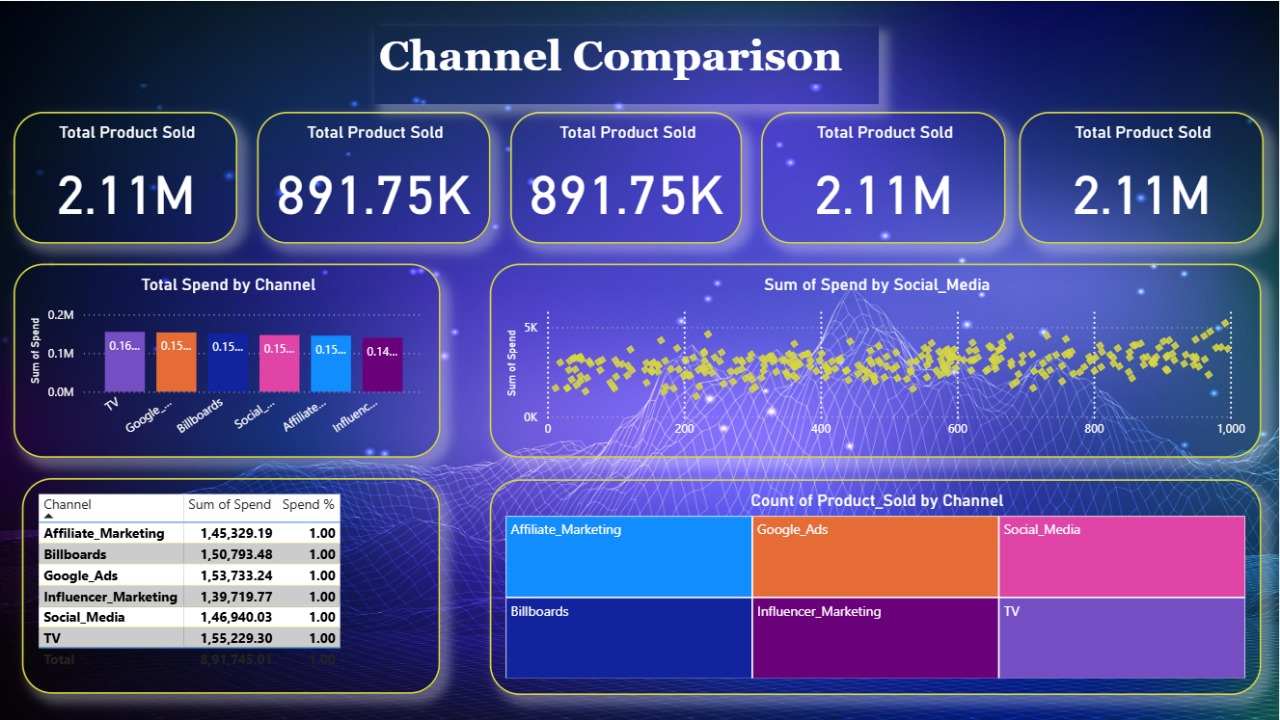

This screenshot's page, from the dashboard's own definition file:
{"tool":"powerbi","page":{"name":"Page 2","canvas":[1280,720],"ordinal":0},"visuals":[{"type":"card","title":"Total Product Sold","fields":{"Values":["measure.Total Products Sold"]},"box":[14.9,111.5,224.1,132.2],"z":0},{"type":"card","title":"Total Product Sold","fields":{"Values":["measure.Total Spend"]},"box":[258.6,111.5,233.3,132.2],"z":1000},{"type":"card","title":"Total Product Sold","fields":{"Values":["measure.Total Spend"]},"box":[511.5,111.5,232.2,132.2],"z":2000},{"type":"card","title":"Total Product Sold","fields":{"Values":["measure.Total Products Sold"]},"box":[762.1,111.5,244.8,132.2],"z":3000},{"type":"card","title":"Total Product Sold","fields":{"Values":["measure.Total Products Sold"]},"box":[1020.7,111.5,244.8,132.2],"z":4000},{"type":"clusteredColumnChart","title":"Total Spend by Channel","fields":{"Category":["Ads Spend.Channel"],"Y":["Sum(Ads Spend.Spend)"]},"box":[14.5,263,427.1,194.2],"z":5000},{"type":"scatterChart","fields":{"X":["Ads Base.Social_Media"],"Y":["Sum(Ads Spend.Spend)"]},"box":[491,263,772.1,194.2],"z":6000},{"type":"textbox","box":[374.7,25.3,504.6,78.2],"z":7000},{"type":"tableEx","fields":{"Values":["Ads Spend.Channel","Sum(Ads Spend.Spend)","measure.Spend %"]},"box":[22.9,477.8,418.6,216],"z":8000},{"type":"treemap","fields":{"Group":["Ads Spend.Channel"],"Values":["CountNonNull(Ads Base.Product_Sold)"]},"box":[491,479,772.1,216],"z":8001}]}

Visuals, with their boxes in screenshot pixels (x1, y1, x2, y2), scaled from the page's 1280x720 canvas onto the 1280x720 screenshot:
"Total Product Sold" card: detection(15, 112, 239, 244)
"Total Product Sold" card: detection(259, 112, 492, 244)
"Total Product Sold" card: detection(512, 112, 744, 244)
"Total Product Sold" card: detection(762, 112, 1007, 244)
"Total Product Sold" card: detection(1021, 112, 1266, 244)
"Total Spend by Channel" clusteredColumnChart: detection(14, 263, 442, 457)
scatterChart - Ads Base.Social_Media x Sum(Ads Spend.Spend): detection(491, 263, 1263, 457)
textbox: detection(375, 25, 879, 104)
tableEx - Ads Spend.Channel x Sum(Ads Spend.Spend): detection(23, 478, 442, 694)
treemap - Ads Spend.Channel x CountNonNull(Ads Base.Product_Sold): detection(491, 479, 1263, 695)
